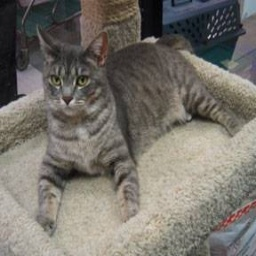cat: (31, 30, 238, 232)
